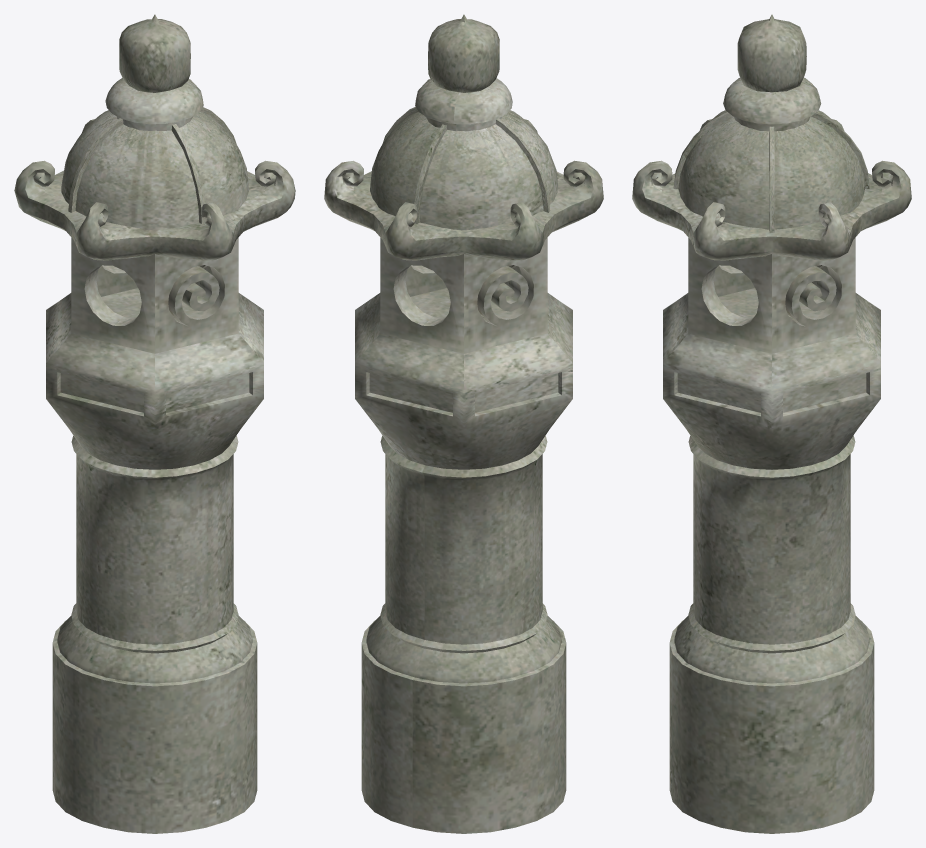
Rendered from SM_ENV_LKNVLD_GardenLantern_A.FBX.
3 views of the same model, side by side, from view 1: azimuth 30°, elevation 25°; view 2: azimuth 150°, elevation 25°; view 3: azimuth 270°, elevation 25° (orthographic).
Visible parts, largest first — view 1: SM_ENV_LKNVLD_GardenLantern_A; view 2: SM_ENV_LKNVLD_GardenLantern_A; view 3: SM_ENV_LKNVLD_GardenLantern_A.
Part boxes in pixels (bbox=[...]): SM_ENV_LKNVLD_GardenLantern_A: bbox=[14, 14, 295, 833]; SM_ENV_LKNVLD_GardenLantern_A: bbox=[324, 14, 603, 833]; SM_ENV_LKNVLD_GardenLantern_A: bbox=[632, 14, 911, 833].
Bounding box in the file's own units: 139 × 473 × 154.
